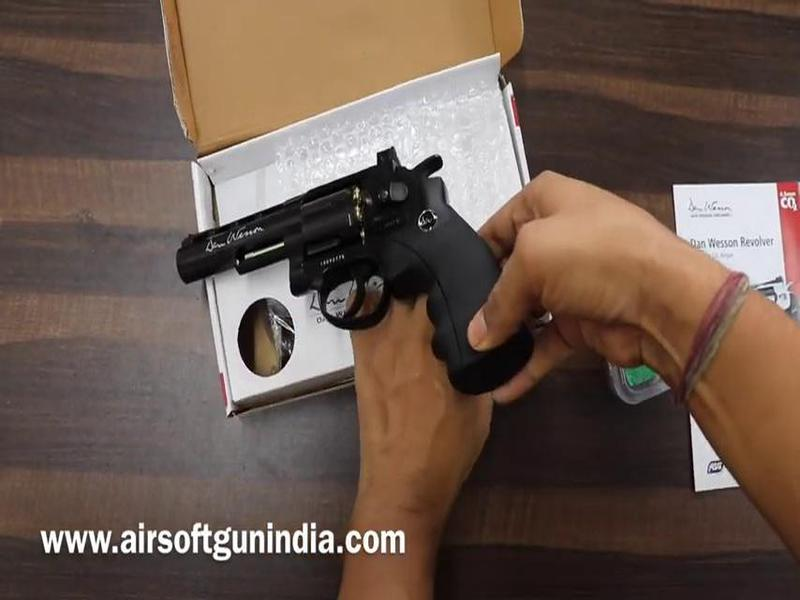Revolver: (168, 125, 518, 406)
